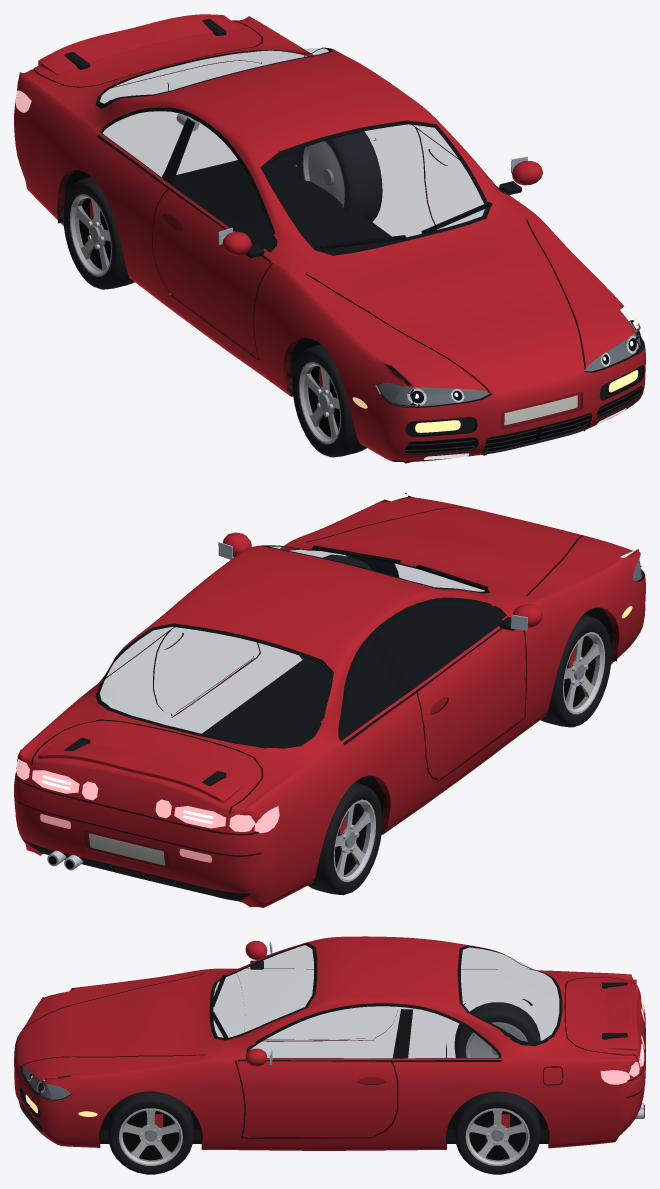
File: car_s14.glb
3 renders of one model, top to bottom at view 1: azimuth 30°, elevation 25°; view 2: azimuth 150°, elevation 25°; view 3: azimuth 270°, elevation 25°, orthographic. The views are drawn at different scales.
Parts seen in each view (by area): view 1: body, wheel_fl, wheel_rl, wheel_rr; view 2: body, wheel_rl, wheel_fl; view 3: body, wheel_rr, wheel_fr, wheel_rl.
Part boxes in pixels (left/top/right/bottom): body: left=14, top=14, right=645, bottom=463; wheel_fl: left=292, top=344, right=366, bottom=457; wheel_rl: left=63, top=177, right=134, bottom=289; wheel_rr: left=296, top=131, right=382, bottom=221; body: left=14, top=492, right=645, bottom=907; wheel_rl: left=307, top=782, right=382, bottom=895; wheel_fl: left=540, top=614, right=611, bottom=727; body: left=14, top=936, right=645, bottom=1150; wheel_rr: left=454, top=1091, right=540, bottom=1174; wheel_fr: left=108, top=1091, right=193, bottom=1174; wheel_rl: left=454, top=1002, right=540, bottom=1057.
Size of the model in its own units: 2 by 1.31 by 4.58.
